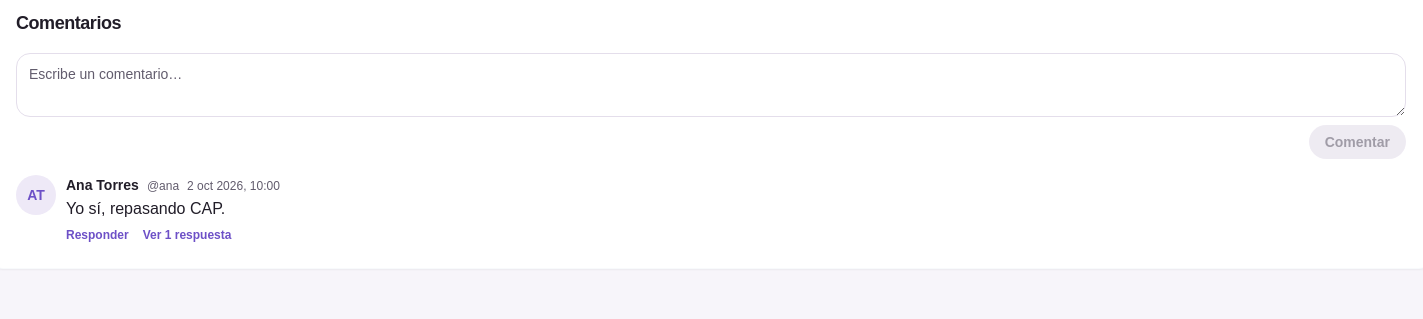
Scenario: shows the server message and keeps the draft when sending fails
Expected: the text "Yo sí, repasando CAP." is shown, [66, 200, 225, 217]
Type "Hola" into the text box named "Texto del comentario" at (711, 85), box [16, 53, 1406, 117]
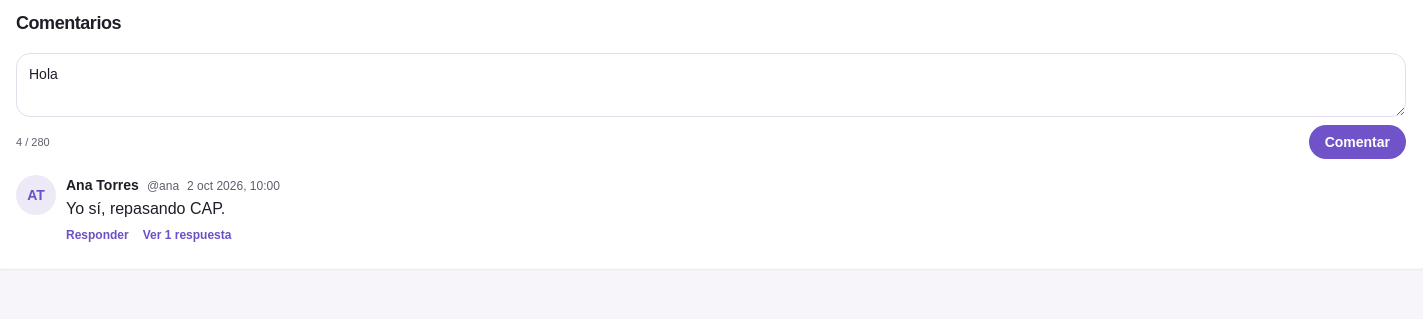
Click the button "Comentar" at (1357, 142), box [1309, 125, 1406, 159]
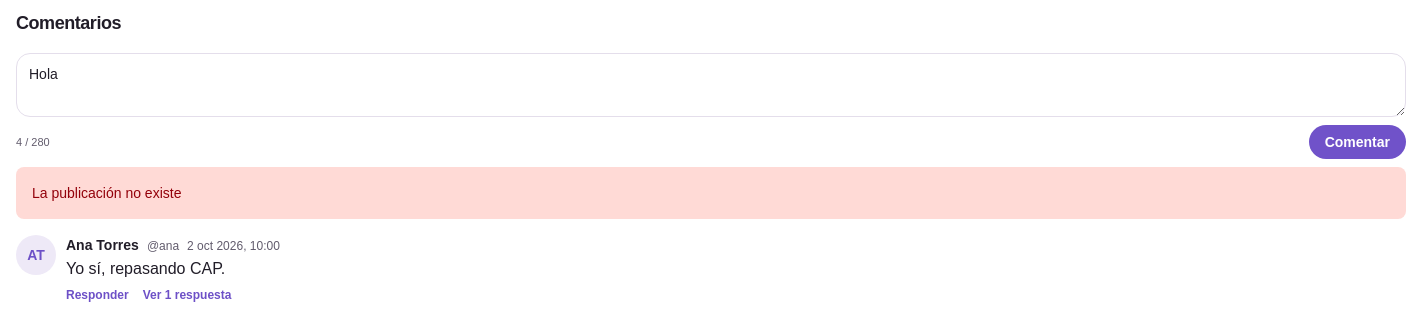
Expected: the message reads "La publicación no existe", [32, 185, 181, 201]
